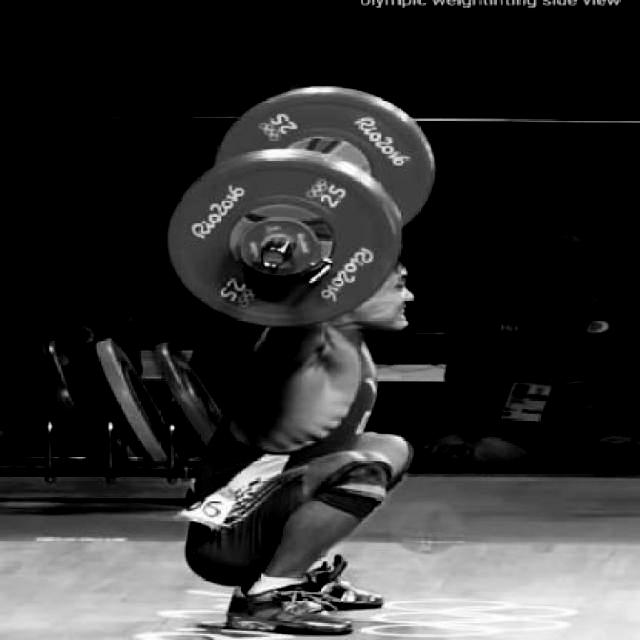barbell: (162, 145, 414, 334)
